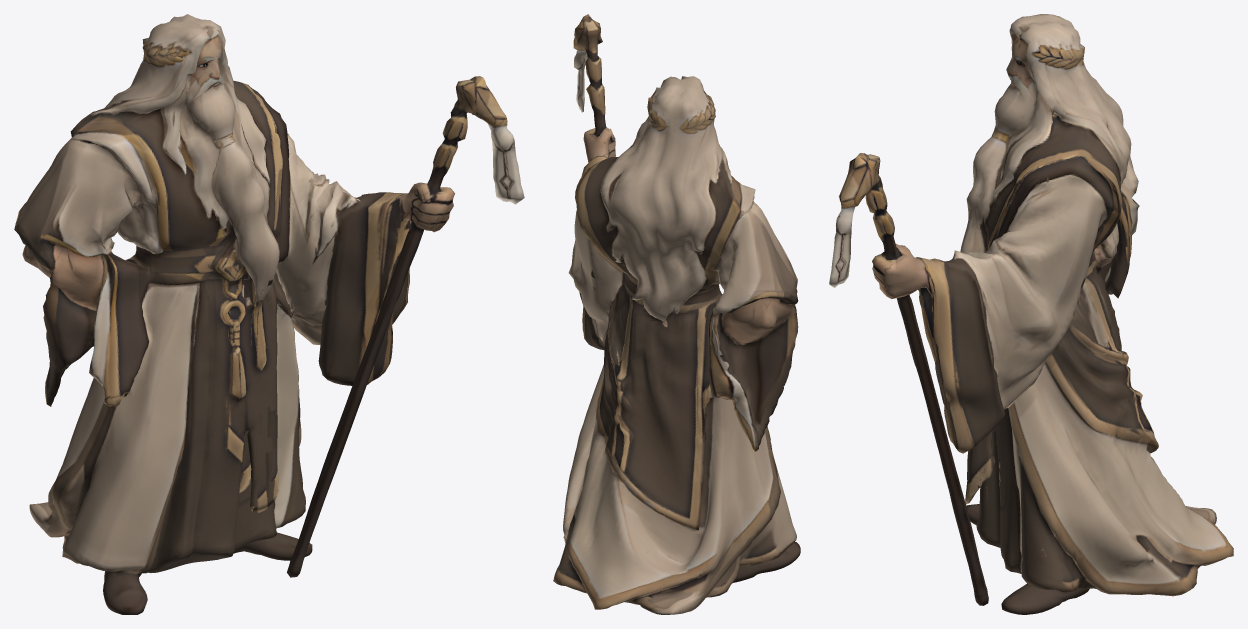
Rendered from Master Ren.fbx.
3 renders of one model, left to right at view 1: azimuth 30°, elevation 25°; view 2: azimuth 150°, elevation 25°; view 3: azimuth 270°, elevation 25°, orthographic. The views are drawn at different scales.
Parts seen in each view (by area): view 1: wizard_lowpoly; view 2: wizard_lowpoly; view 3: wizard_lowpoly.
Boxes of the visible parts, x1=… form: wizard_lowpoly: x1=14, y1=14, x2=524, y2=614; wizard_lowpoly: x1=553, y1=14, x2=800, y2=614; wizard_lowpoly: x1=829, y1=14, x2=1233, y2=614.
Size of the model in its own units: 69.12 by 97 by 64.84.
Materials: 1 (1 with a texture image).
